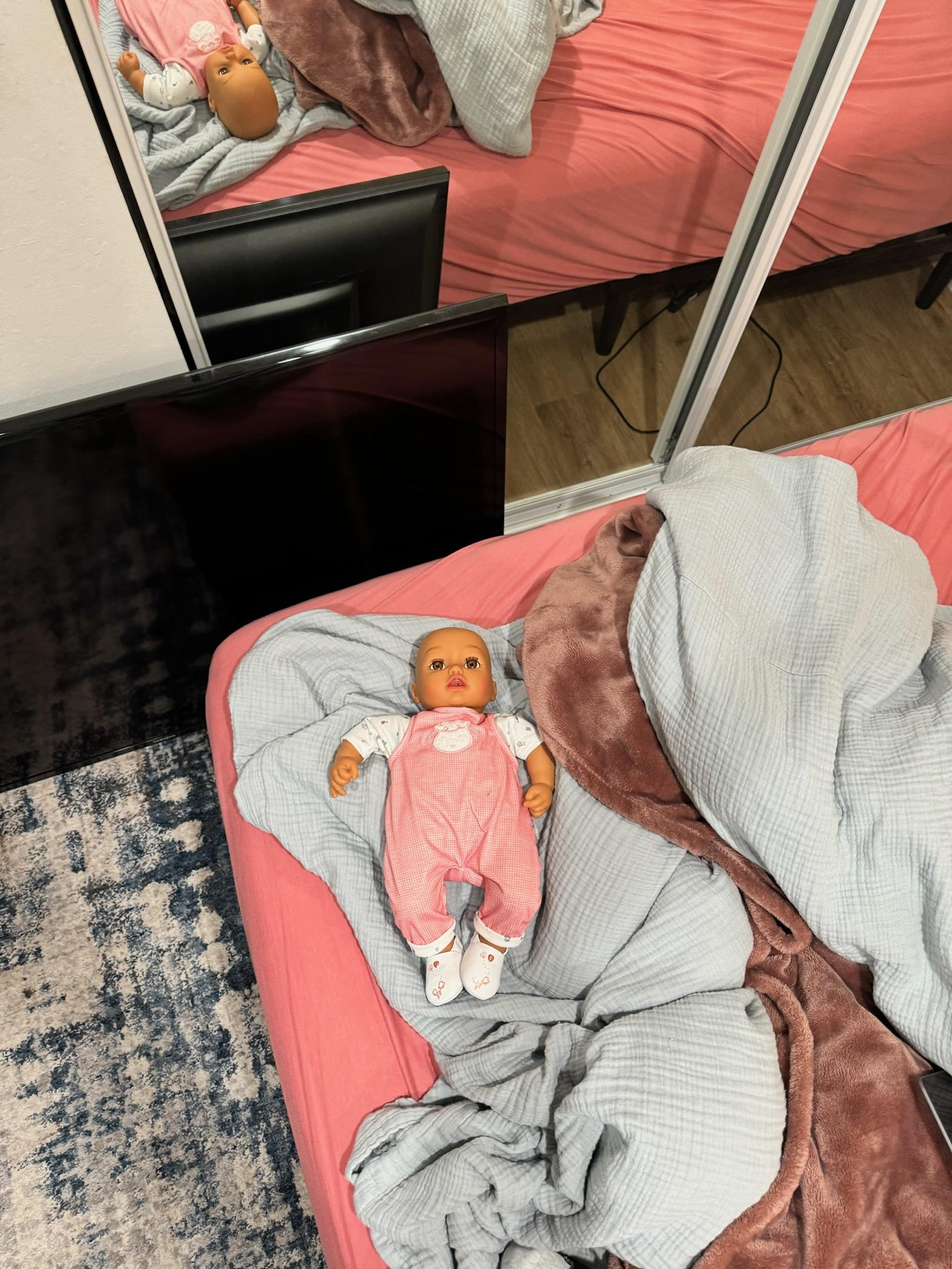baby: (314, 620, 568, 1012)
